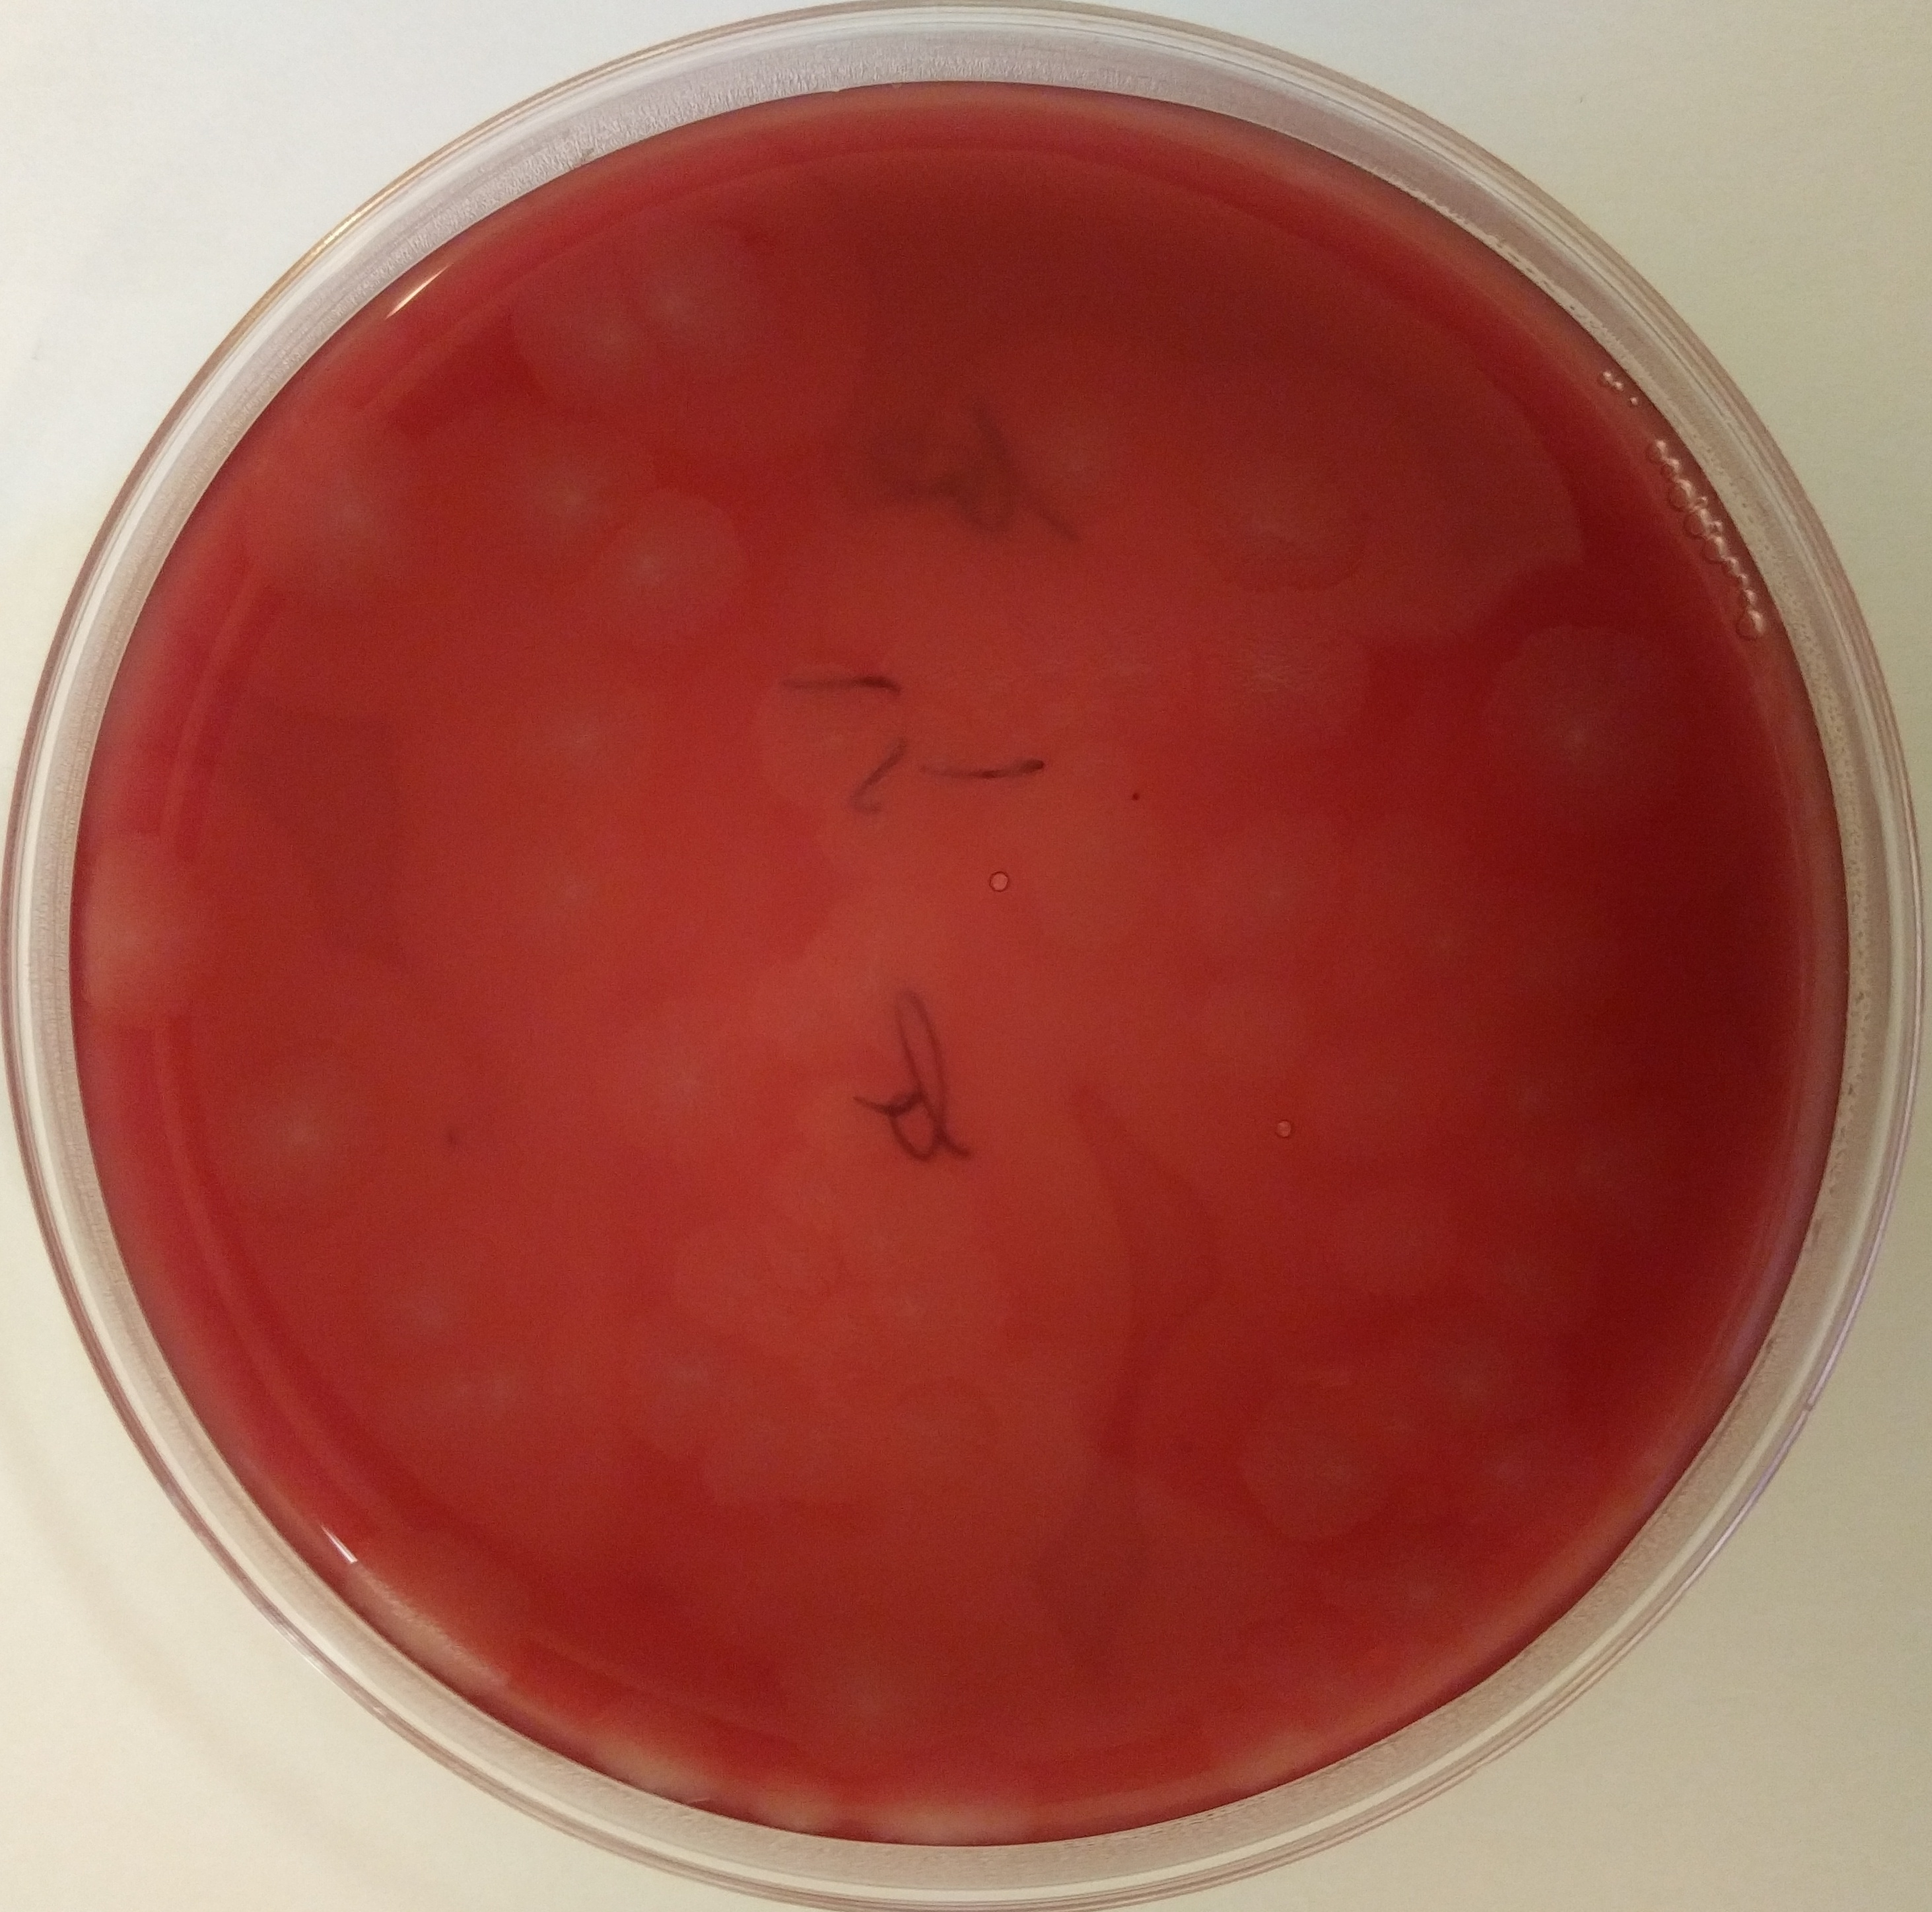sp08: (1459, 588, 1717, 860), (581, 958, 803, 1184), (226, 385, 427, 615), (334, 1501, 546, 1707), (199, 1021, 406, 1227), (56, 811, 240, 1035), (562, 466, 768, 664), (437, 390, 658, 571), (1221, 1355, 1421, 1551), (1276, 1005, 1512, 1168), (1183, 573, 1381, 763), (1186, 411, 1375, 597), (651, 1180, 857, 1350), (1167, 784, 1358, 968), (511, 236, 695, 424), (609, 210, 780, 390), (1298, 1145, 1480, 1315), (744, 655, 917, 832), (341, 1206, 514, 1380), (1549, 1075, 1703, 1257), (1169, 938, 1335, 1096), (1402, 1297, 1557, 1450), (1456, 1187, 1605, 1339), (576, 1683, 726, 1810), (868, 1735, 1041, 1838), (745, 1751, 843, 1837)
